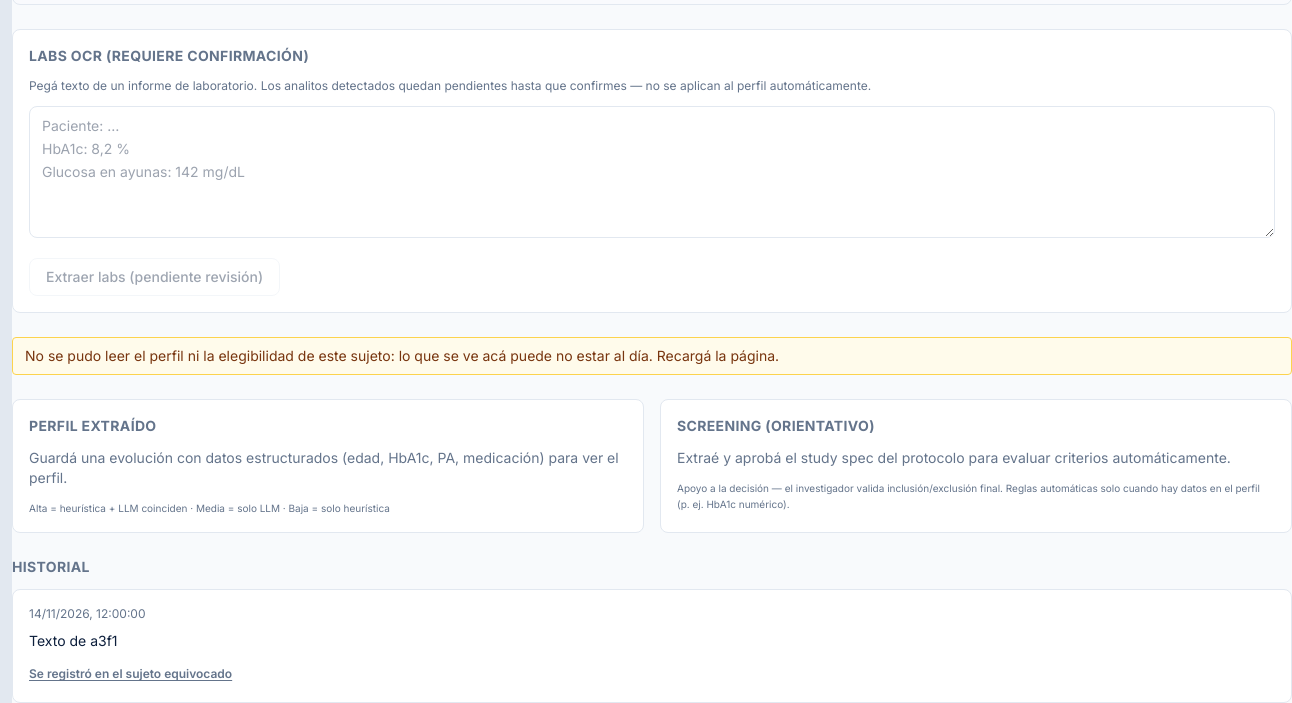
Test: una lectura del perfil que falla no se calla › una lectura que sale bien lo quita
(page scrolled)
Step 1. Click the button "Se registró en el sujeto equivocado" → click(131, 674), box [29, 666, 232, 682]
(page scrolled)
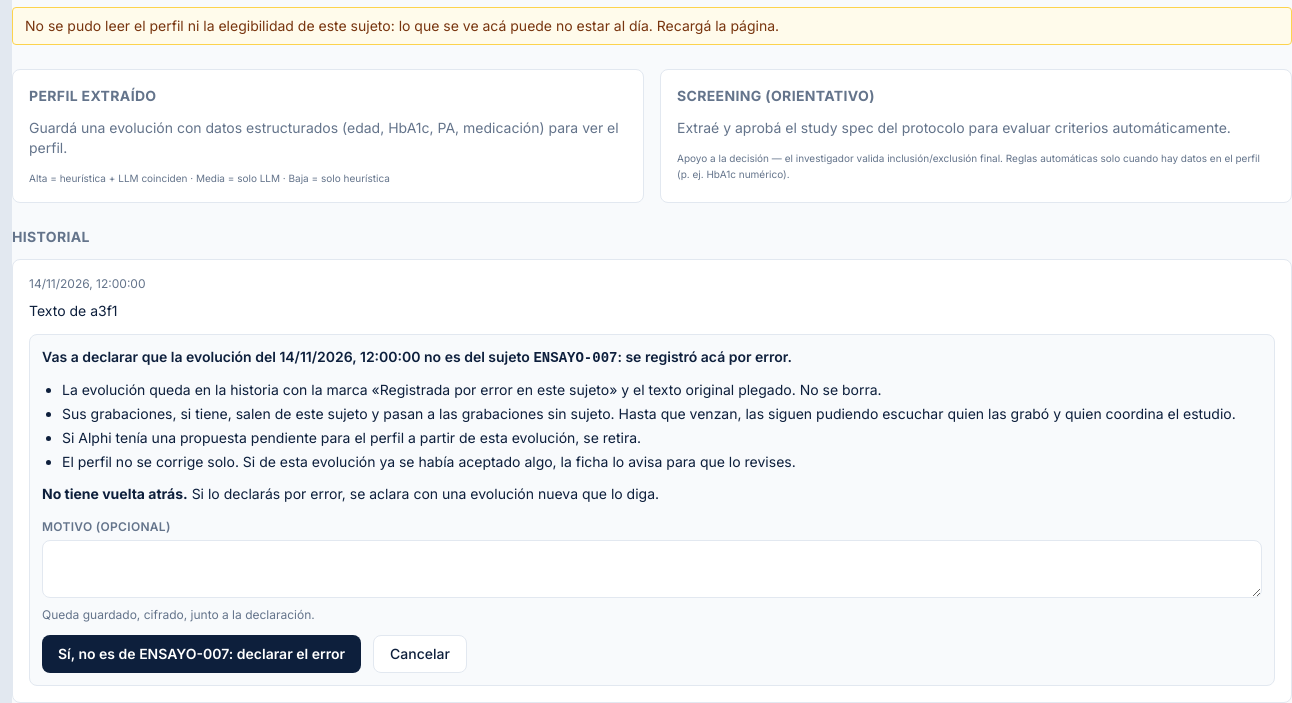
Step 2. Click the button "Sí, no es de ENSAYO-007: declarar el error" → click(202, 654), box [42, 635, 361, 673]
(page scrolled)
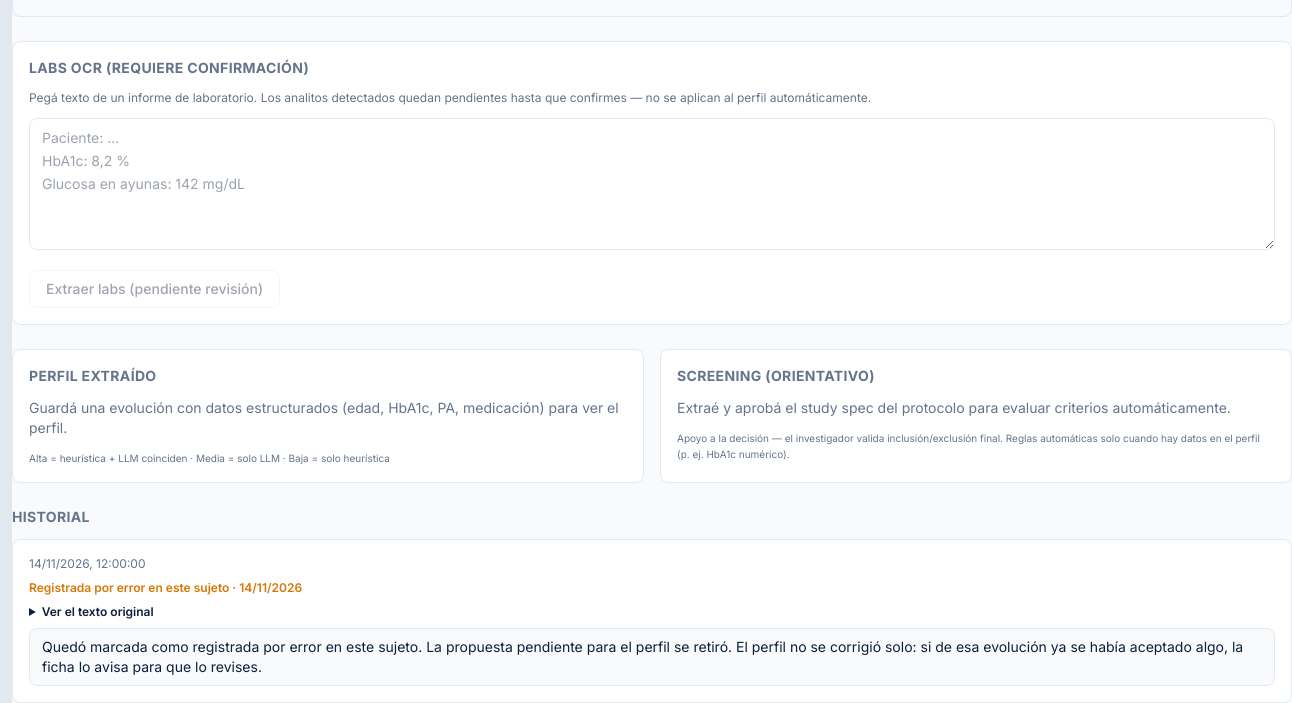
Result: the text "No se pudo leer el perfil ni la elegibilidad de este sujeto: lo que se ve acá puede no estar al día. Recargá la página." is gone
